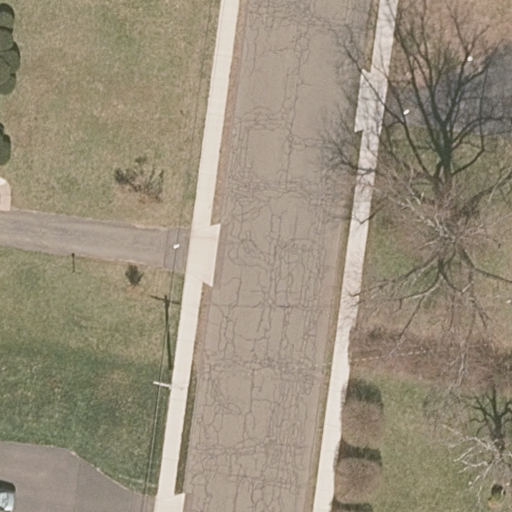DT: (152, 368, 187, 394)
